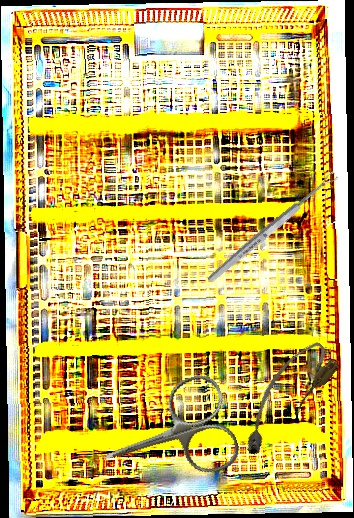Cannula: (227, 334, 343, 462)
Iris Scissors: (89, 370, 244, 503)
Surgical Spoon: (205, 170, 340, 285)
